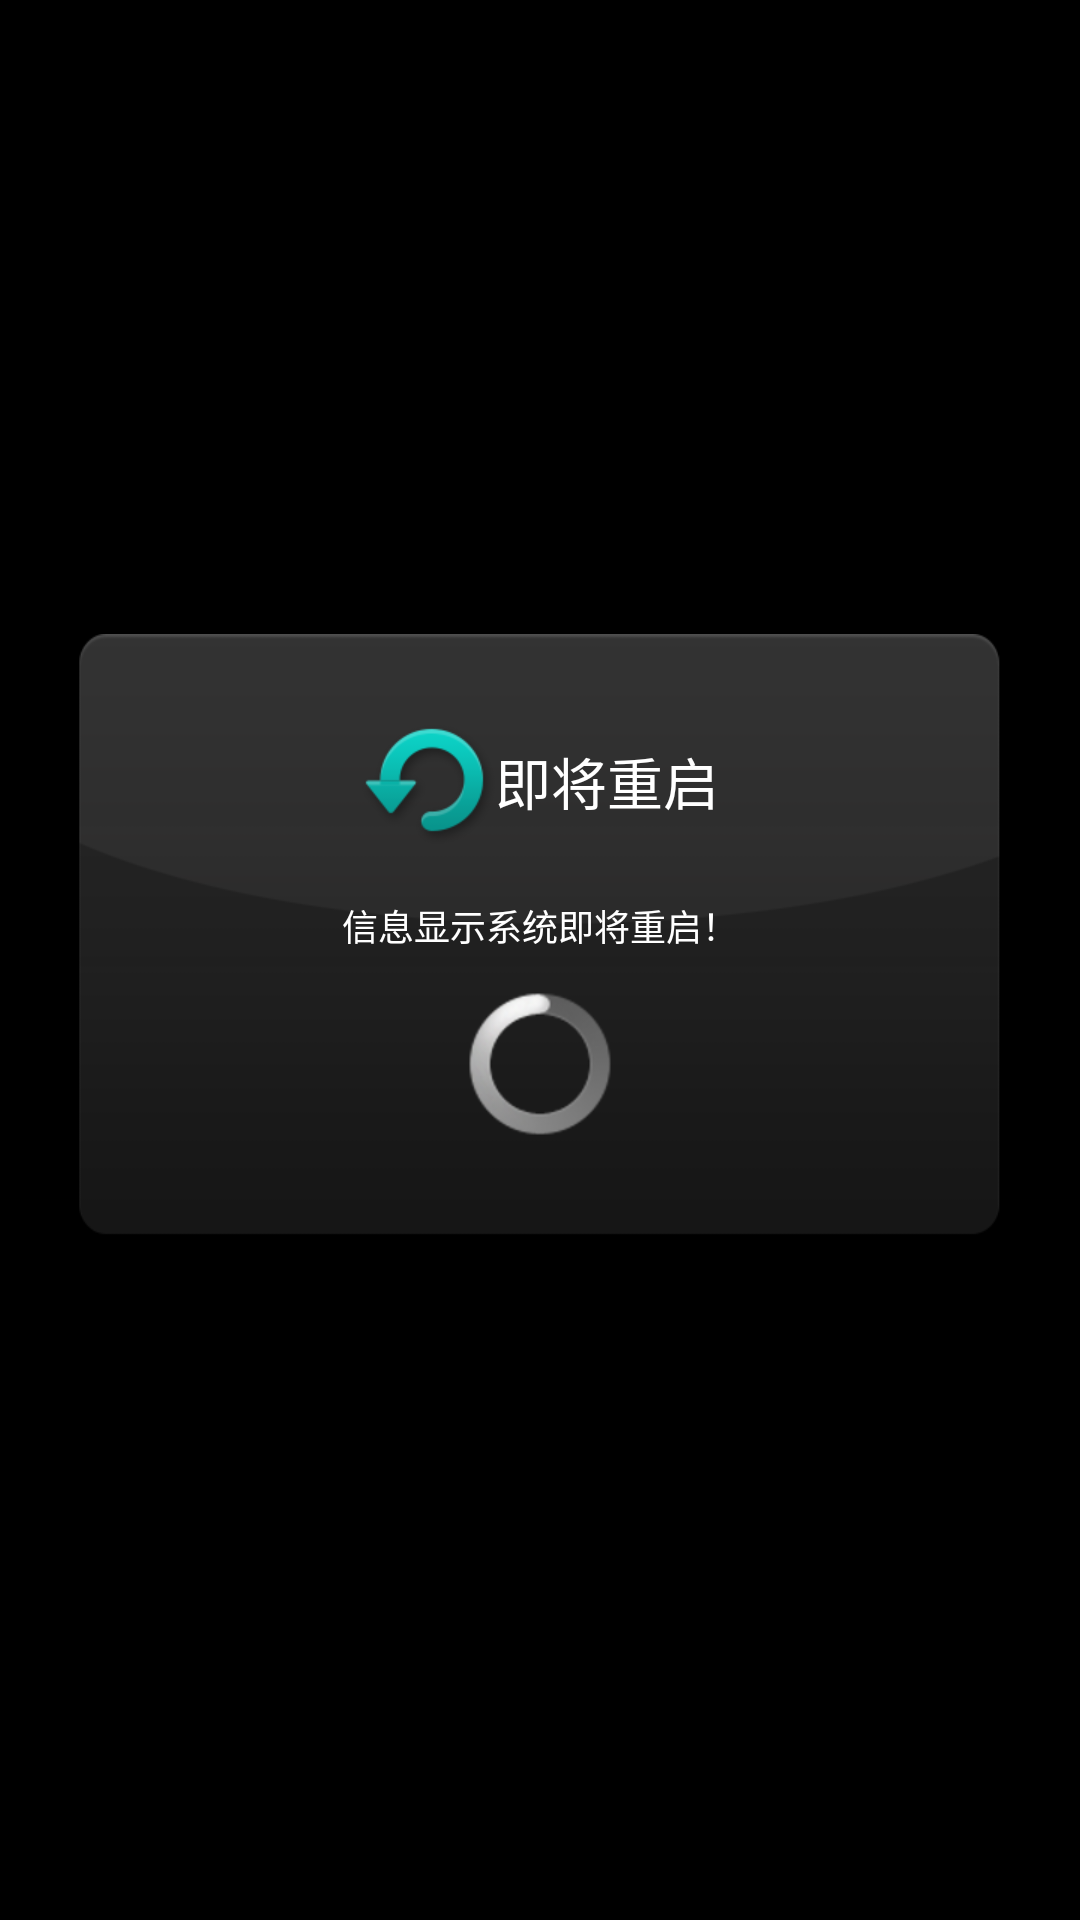

Locate icon controls on the screen. Image size 1080px x 1920px, boxes as box(x1, y1, x2, y2).
restart tag: box(366, 728, 483, 831)
